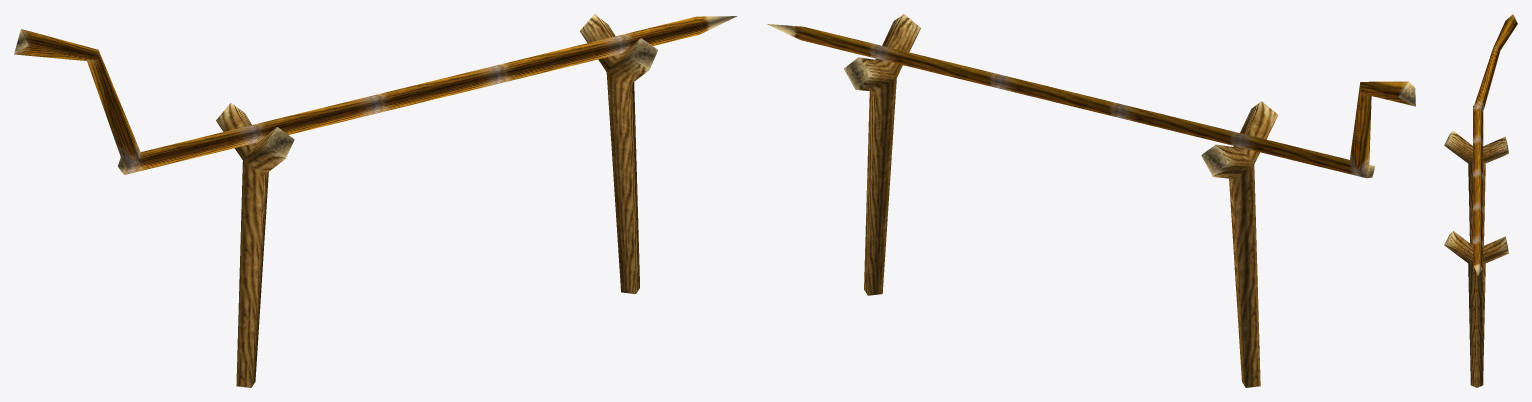
The model's file is spitwood.obj.
The picture shows the model from 3 angles, left to right: view 1: azimuth 30°, elevation 25°; view 2: azimuth 150°, elevation 25°; view 3: azimuth 270°, elevation 25°; orthographic projection. The views are drawn at different scales.
Parts seen in each view (by area): view 1: SPITWOOD0; view 2: SPITWOOD0; view 3: SPITWOOD0.
Boxes of the visible parts, box(x1,y1,x2,y2) form: SPITWOOD0: box(14, 14, 737, 387); SPITWOOD0: box(767, 14, 1415, 387); SPITWOOD0: box(1444, 14, 1517, 387).
Size of the model in its own units: 4.36 by 2.28 by 0.7172.
1 material, 1 textured.
